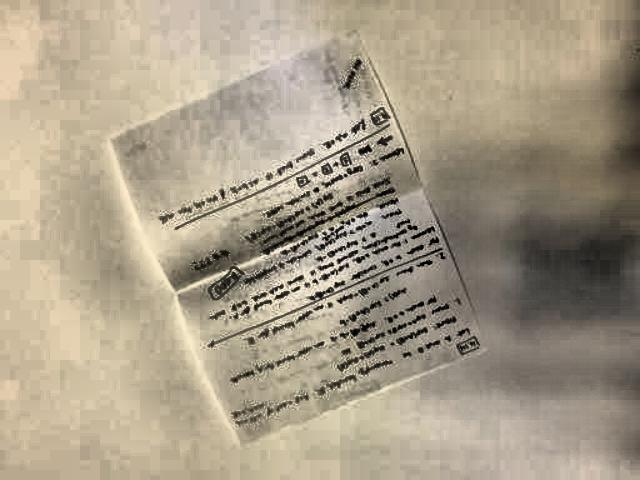Paper: (94, 34, 484, 445)
